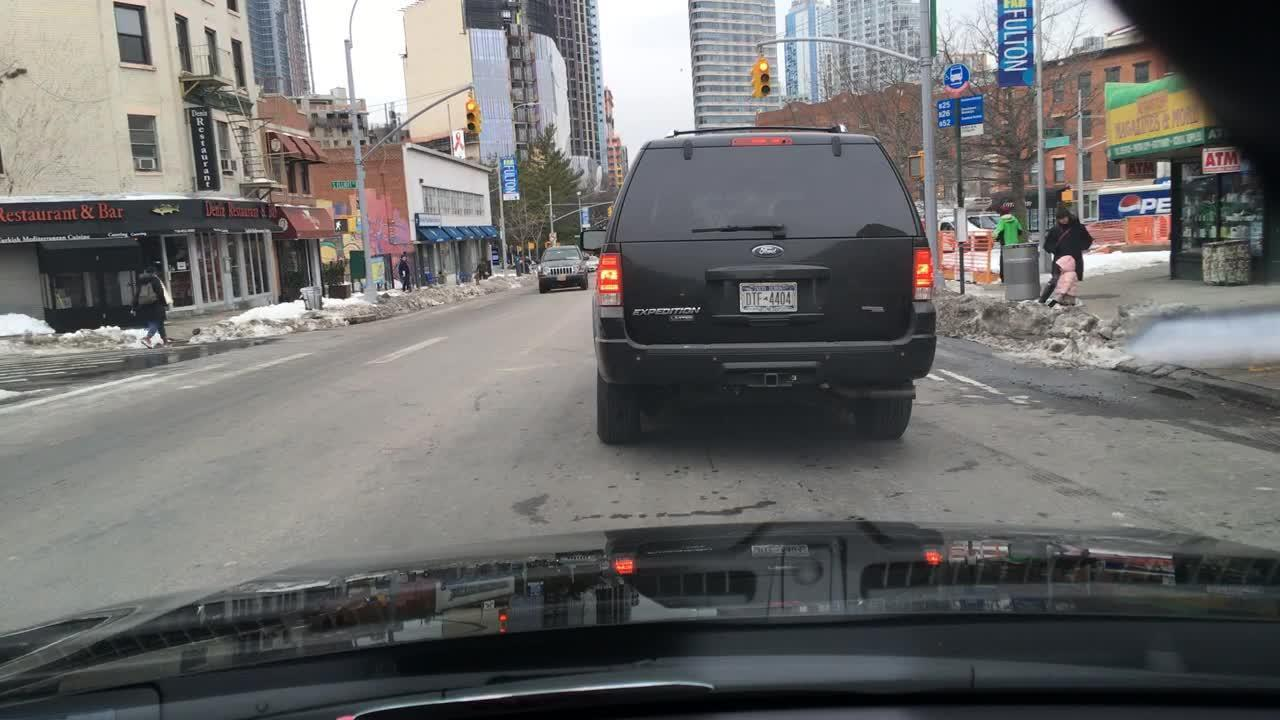ford: (749, 240, 791, 259)
